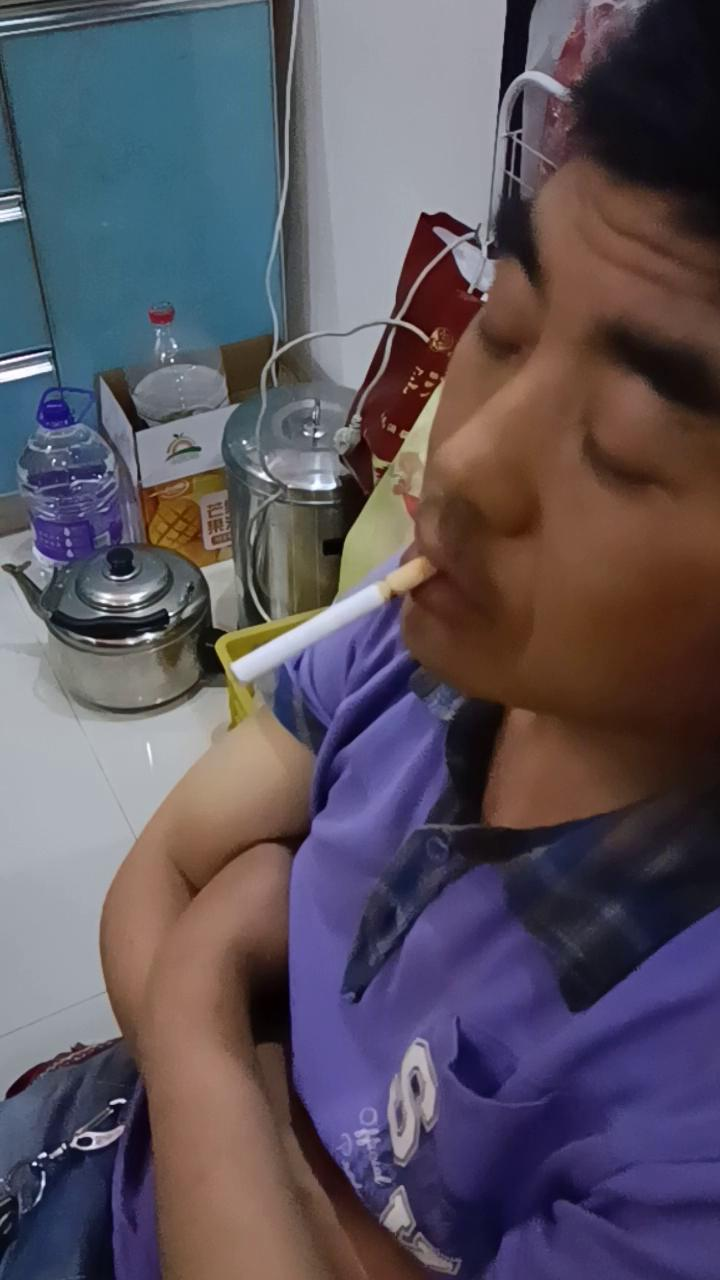smoke: (230, 556, 438, 687)
